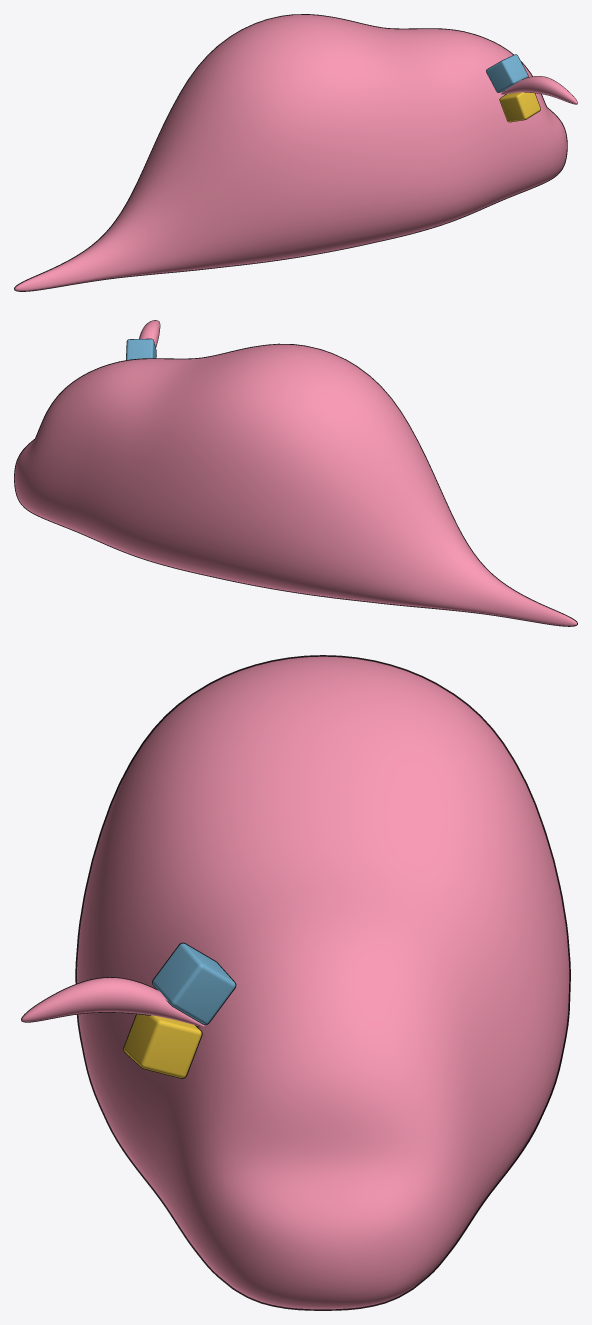
File: Bocchi The Slug.fbx
3 renders of one model, top to bottom at view 1: azimuth 30°, elevation 25°; view 2: azimuth 150°, elevation 25°; view 3: azimuth 270°, elevation 25°, orthographic. The views are drawn at different scales.
Visible parts, largest first — view 1: Bocchi The Slug, Antenna, Cube, Cube 2; view 2: Bocchi The Slug, Cube; view 3: Bocchi The Slug, Antenna, Cube, Cube 2.
Boxes of the visible parts, left/top/right/bottom form: Bocchi The Slug: left=14, top=14, right=567, bottom=291; Antenna: left=501, top=76, right=577, bottom=104; Cube: left=486, top=54, right=528, bottom=92; Cube 2: left=499, top=92, right=540, bottom=122; Bocchi The Slug: left=14, top=343, right=577, bottom=626; Cube: left=126, top=338, right=156, bottom=359; Bocchi The Slug: left=75, top=655, right=570, bottom=1310; Antenna: left=21, top=977, right=204, bottom=1027; Cube: left=152, top=942, right=236, bottom=1025; Cube 2: left=123, top=1014, right=202, bottom=1078.
Size of the model in its own units: 25.92 by 8.99 by 11.34.
